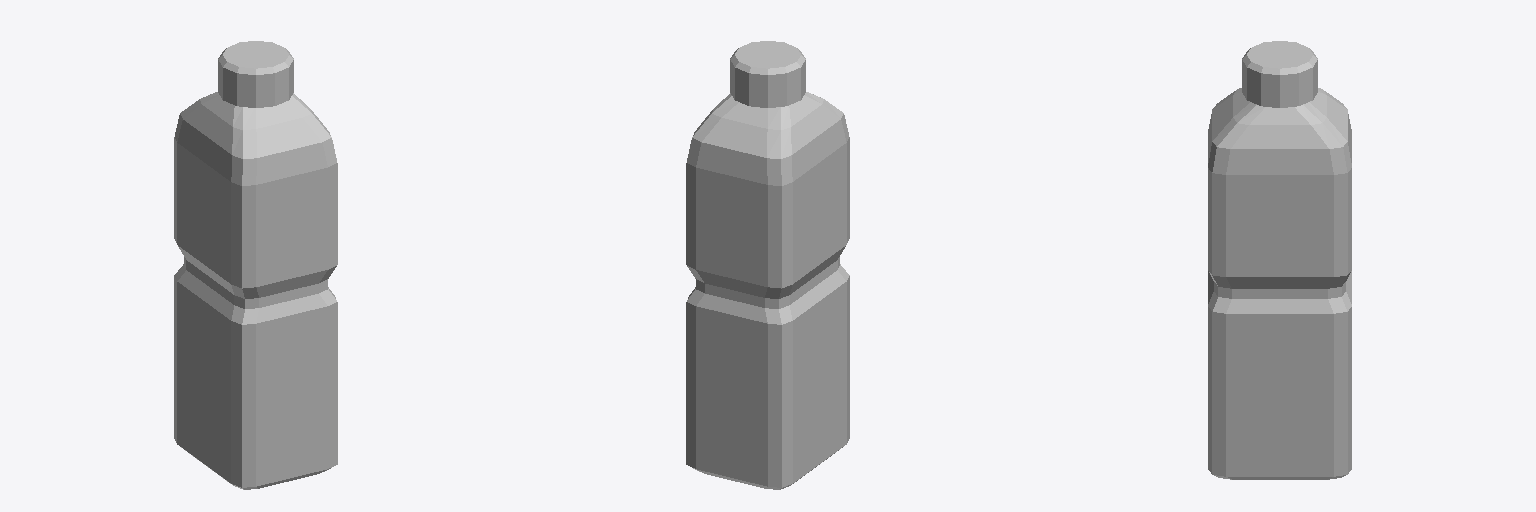
The model's file is Bote.obj.
3 views of the same model, side by side, from view 1: azimuth 30°, elevation 25°; view 2: azimuth 150°, elevation 25°; view 3: azimuth 270°, elevation 25° (orthographic).
Visible parts, largest first — view 1: hypercasual_prop016; view 2: hypercasual_prop016; view 3: hypercasual_prop016.
Part boxes in pixels (x1,y1,x2,y2): hypercasual_prop016: (174, 41, 337, 489); hypercasual_prop016: (686, 41, 849, 489); hypercasual_prop016: (1208, 41, 1351, 479).
Size of the model in its own units: 0.6199 by 2.31 by 0.75.